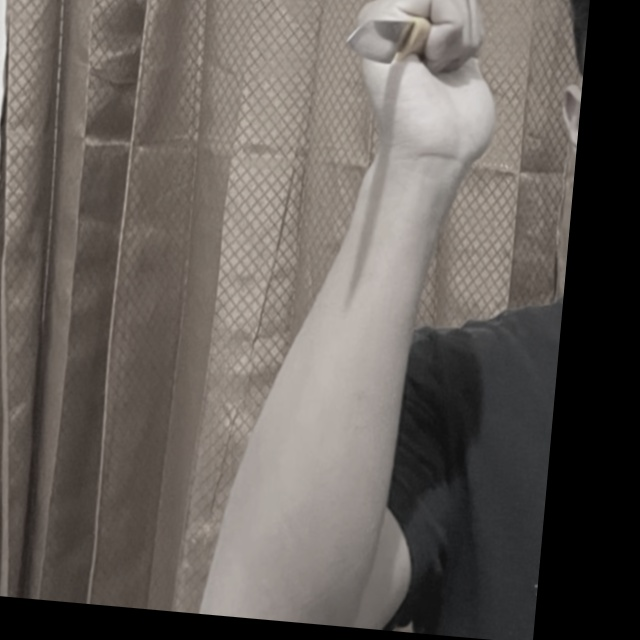Sharp-Object: (342, 7, 434, 71)
